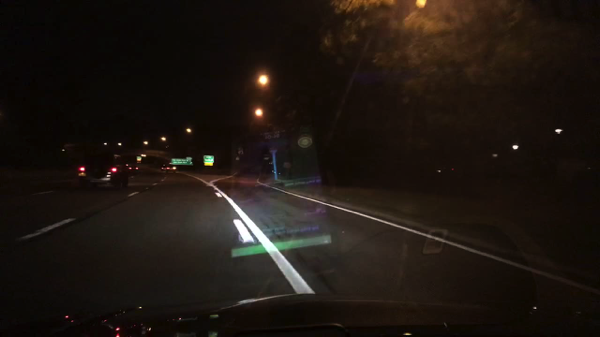car: (75, 152, 129, 190), (126, 164, 140, 171), (167, 165, 177, 174), (272, 168, 281, 176), (266, 161, 273, 168), (160, 165, 166, 171), (137, 161, 143, 166)
traffic sign: (171, 158, 191, 165), (203, 155, 215, 163), (205, 163, 213, 168), (185, 155, 191, 160)
truck: (136, 156, 142, 163)
